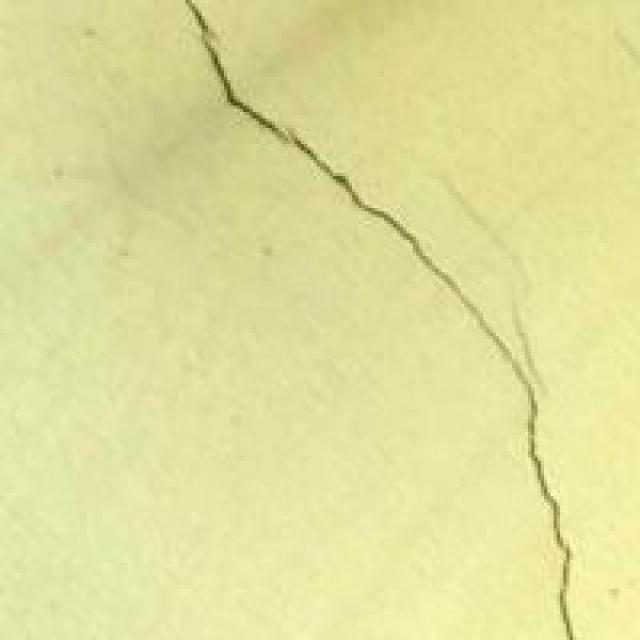Crack: (179, 3, 624, 637)
